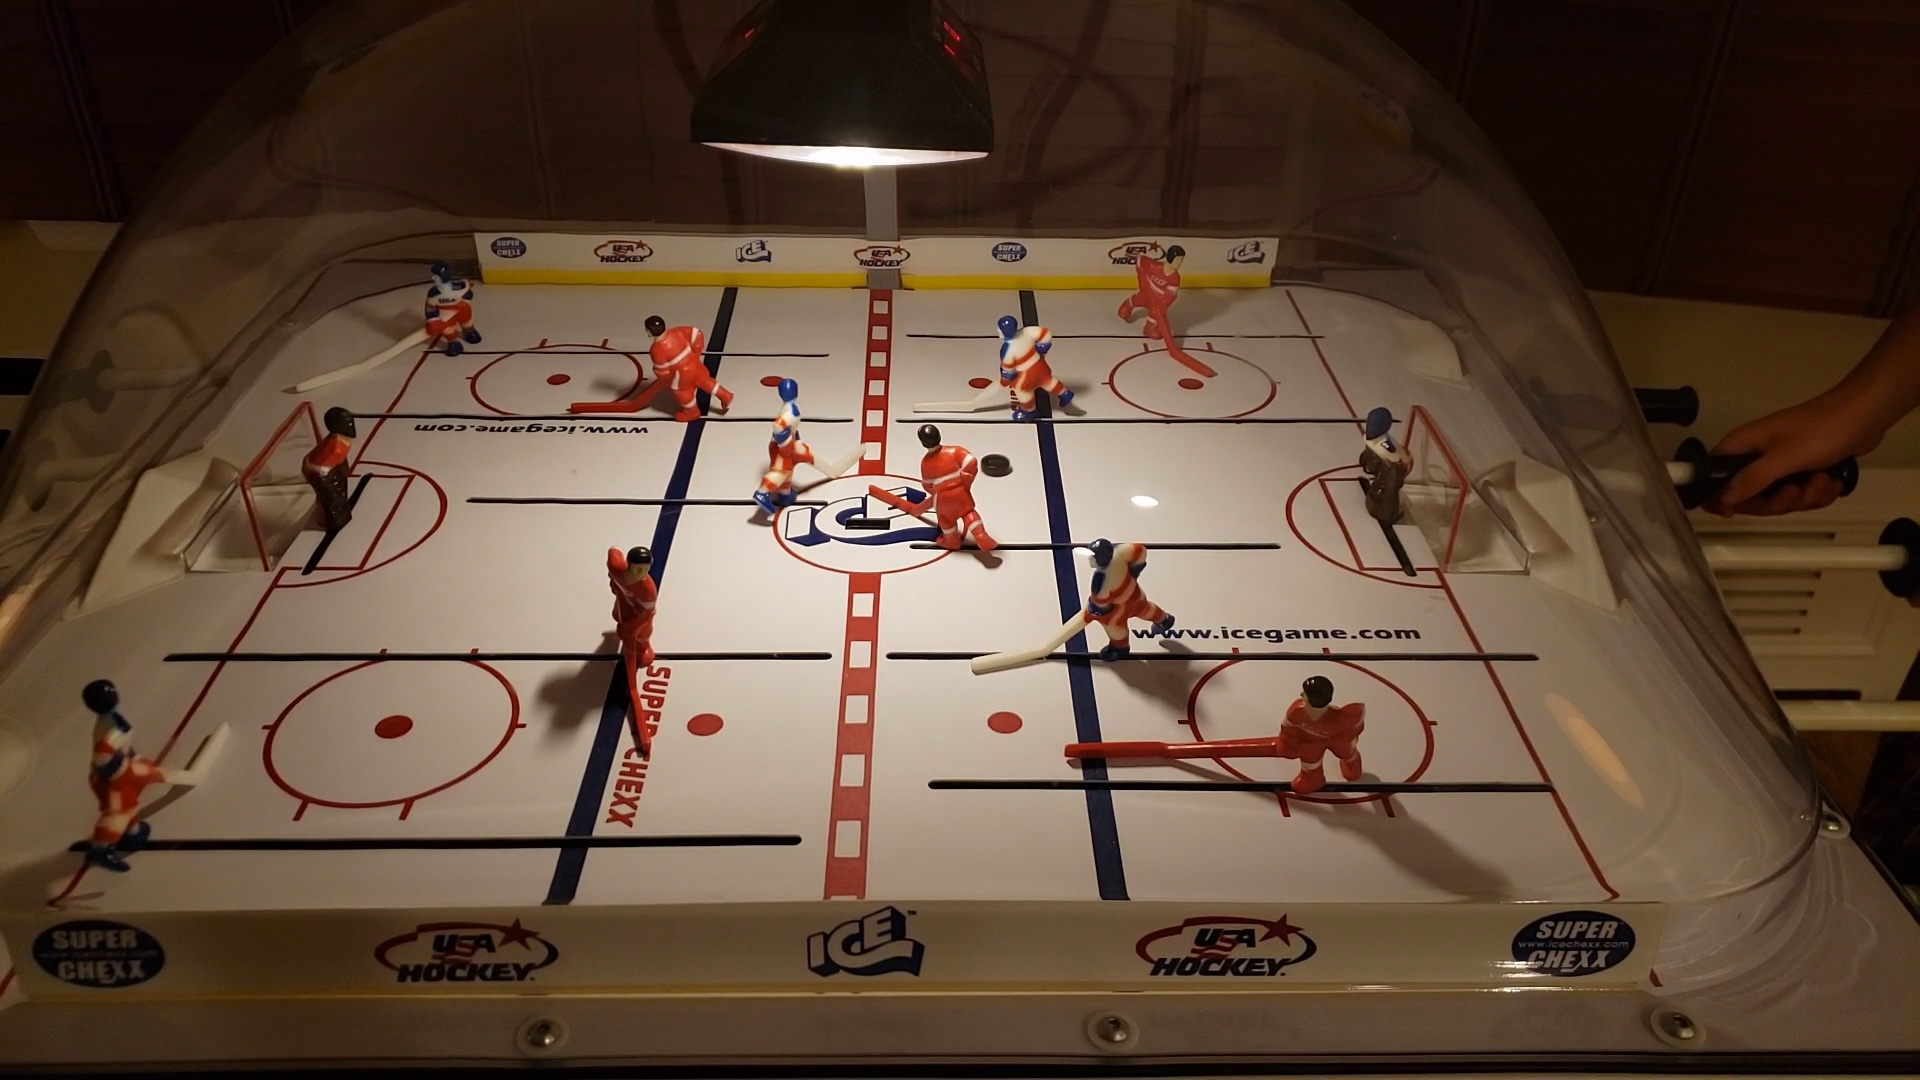puck: (975, 451, 1018, 479)
